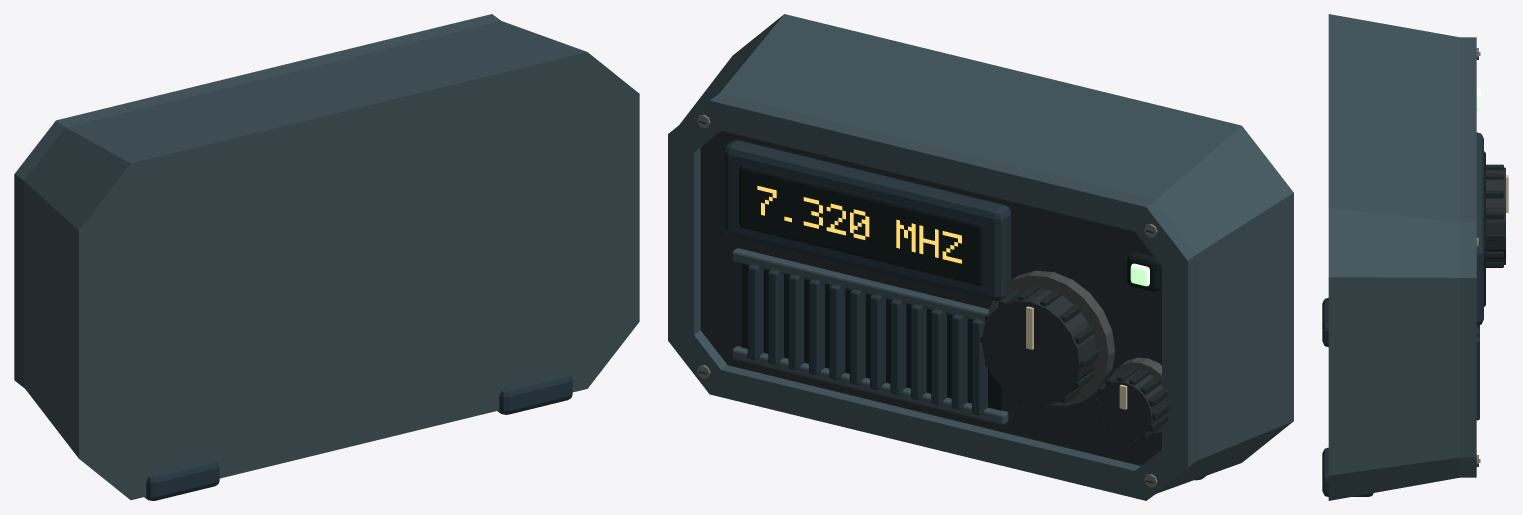
The model's file is radio_panel.glb.
3 views of the same model, side by side, from view 1: azimuth 30°, elevation 25°; view 2: azimuth 150°, elevation 25°; view 3: azimuth 270°, elevation 25° (orthographic). The views are drawn at different scales.
Parts seen in each view (by area): view 1: radio_panel; view 2: radio_panel; view 3: radio_panel.
Boxes of the visible parts, x1,y1,x2,y2 form: radio_panel: (14, 14, 639, 500); radio_panel: (668, 14, 1293, 500); radio_panel: (1322, 14, 1508, 500).
Bounding box in the file's own units: 0.54 × 0.3155 × 0.1785.
